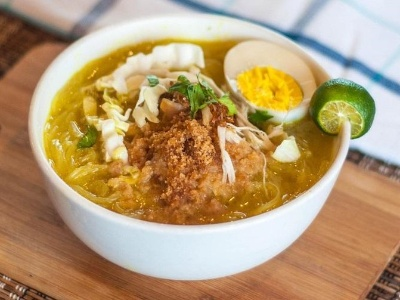soto: (63, 42, 325, 214)
